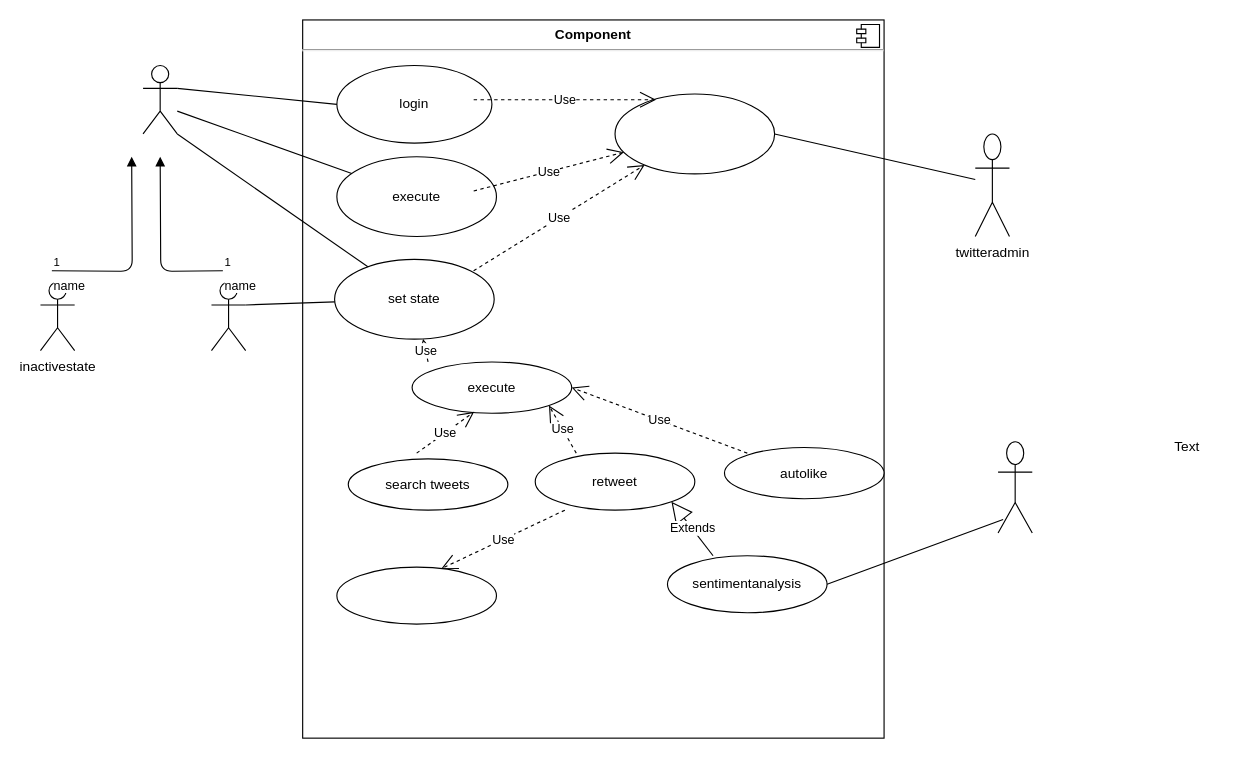
The diagram is 1238 pixels wide and 758 high, and some of its shapes have lost their labels. Each missing label, with the box of its shape:
activestate: (210, 281, 246, 351)
getdeveloper access: (614, 93, 775, 174)
textblob: (997, 441, 1032, 533)
tweet: (336, 566, 496, 624)
twitterbot: (142, 64, 177, 134)
